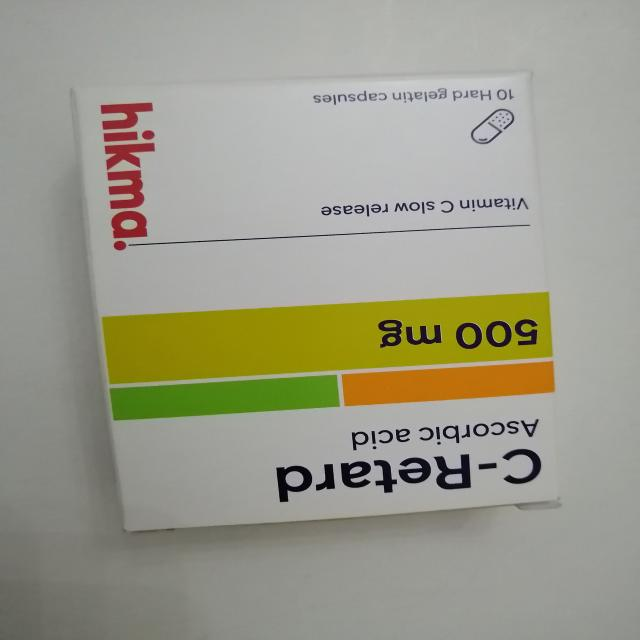C-Retard: (72, 67, 591, 546)
